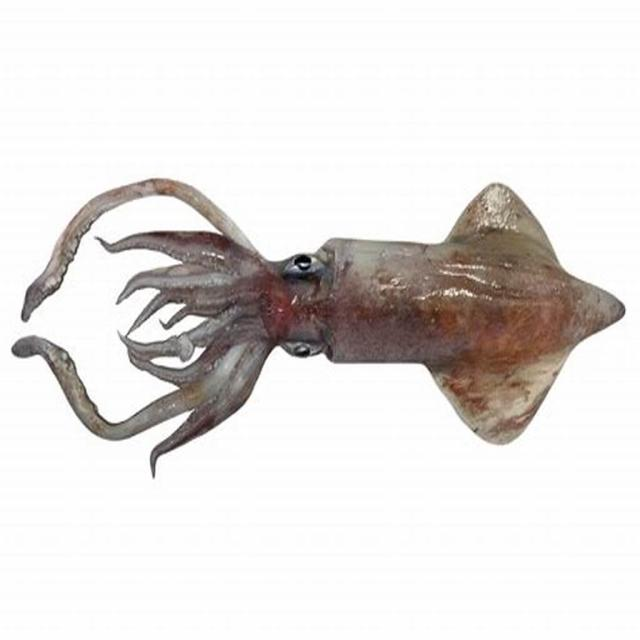SQUID: (0, 155, 632, 486)
